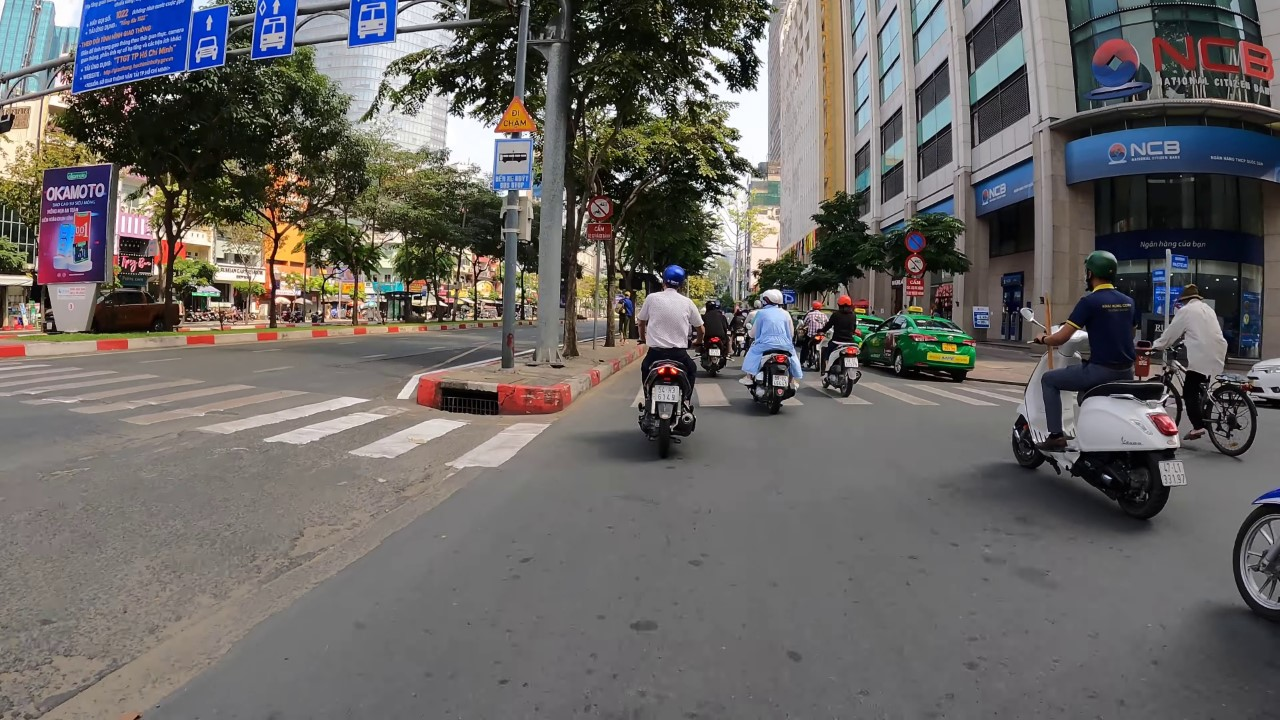cam_do_xe: (901, 229, 928, 255)
di_cham: (490, 94, 540, 135)
